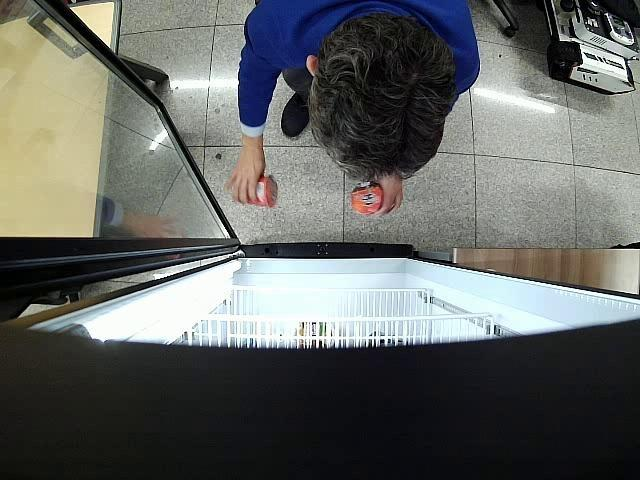02_shinRamen_S: (352, 180, 383, 215), (248, 176, 278, 208)
